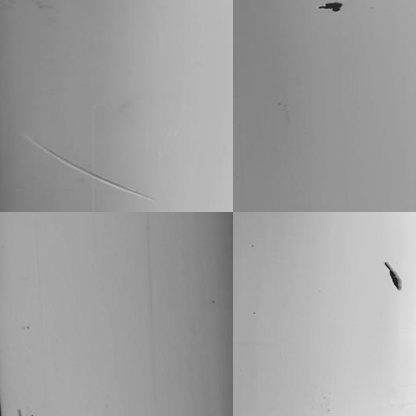kongdong: (379, 255, 401, 290), (316, 2, 345, 12)
sunshang: (22, 129, 153, 201)
